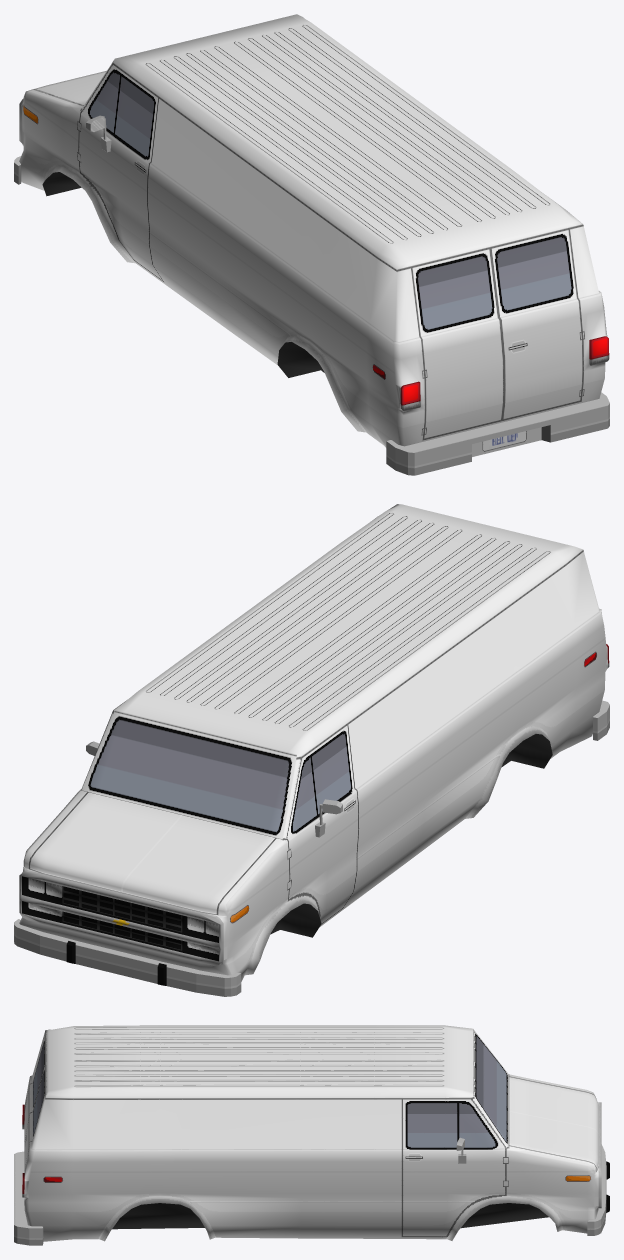
File: 93G10van.fbx
3 views of the same model, one above another, from view 1: azimuth 30°, elevation 25°; view 2: azimuth 150°, elevation 25°; view 3: azimuth 270°, elevation 25° (orthographic). The views are drawn at different scales.
Visible parts, largest first — view 1: 93g10van; view 2: 93g10van; view 3: 93g10van.
Part boxes in pixels (<box>): 93g10van: <box>14,14,609,475</box>; 93g10van: <box>14,504,609,996</box>; 93g10van: <box>14,1025,609,1245</box>.
Bounding box in the file's own units: 2.38 × 1.8 × 6.42.
